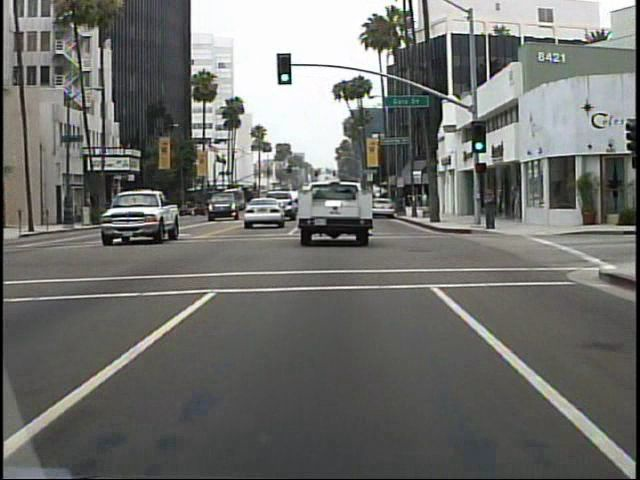person: (481, 179, 500, 233)
